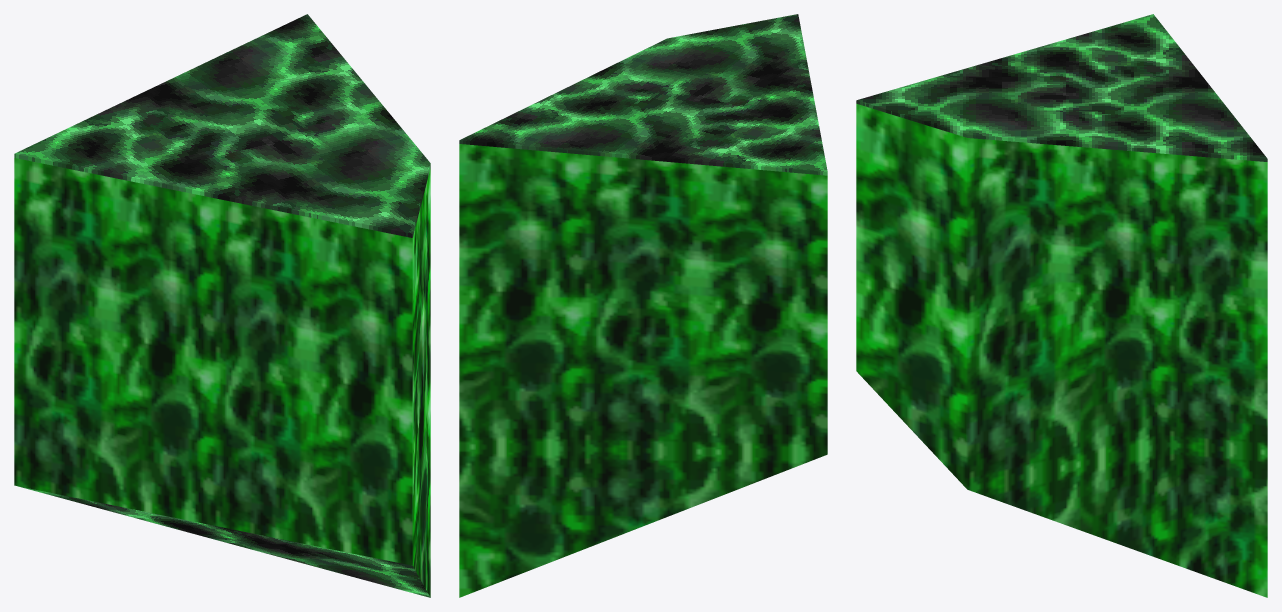
3 renders of one model, left to right at view 1: azimuth 30°, elevation 25°; view 2: azimuth 150°, elevation 25°; view 3: azimuth 270°, elevation 25°, orthographic. The views are drawn at different scales.
Visible parts, largest first — view 1: kb3_c; view 2: kb3_c; view 3: kb3_c.
Boxes of the visible parts, <box> form: kb3_c: <box>14,14,430,597</box>; kb3_c: <box>459,14,827,597</box>; kb3_c: <box>856,14,1267,597</box>.
Bounding box in the file's own units: 231 × 326 × 277.
2 materials, 2 textured.
